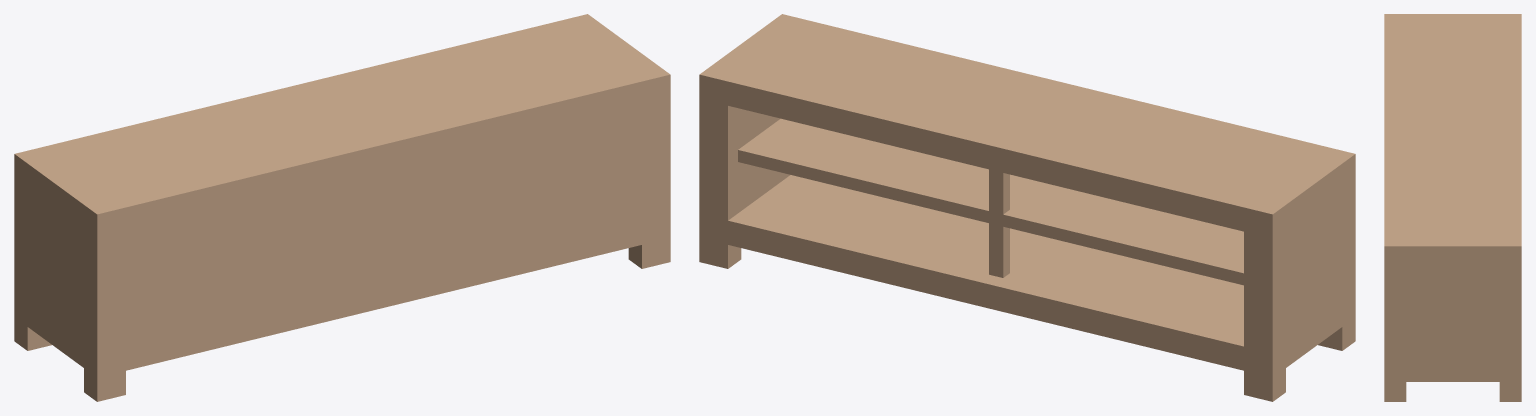
File: tv-stand.glb
The picture shows the model from 3 angles, left to right: view 1: azimuth 30°, elevation 25°; view 2: azimuth 150°, elevation 25°; view 3: azimuth 270°, elevation 25°; orthographic projection. The views are drawn at different scales.
Visible parts, largest first — view 1: tv-stand; view 2: tv-stand; view 3: tv-stand.
Boxes of the visible parts, x1=… form: tv-stand: x1=14, y1=14, x2=670, y2=401; tv-stand: x1=699, y1=14, x2=1355, y2=401; tv-stand: x1=1384, y1=14, x2=1521, y2=401.
Bounding box in the file's own units: 1.6 × 0.5 × 0.4.
